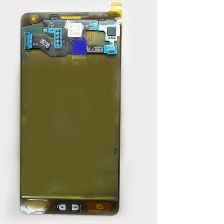phone: (11, 6, 123, 219)
